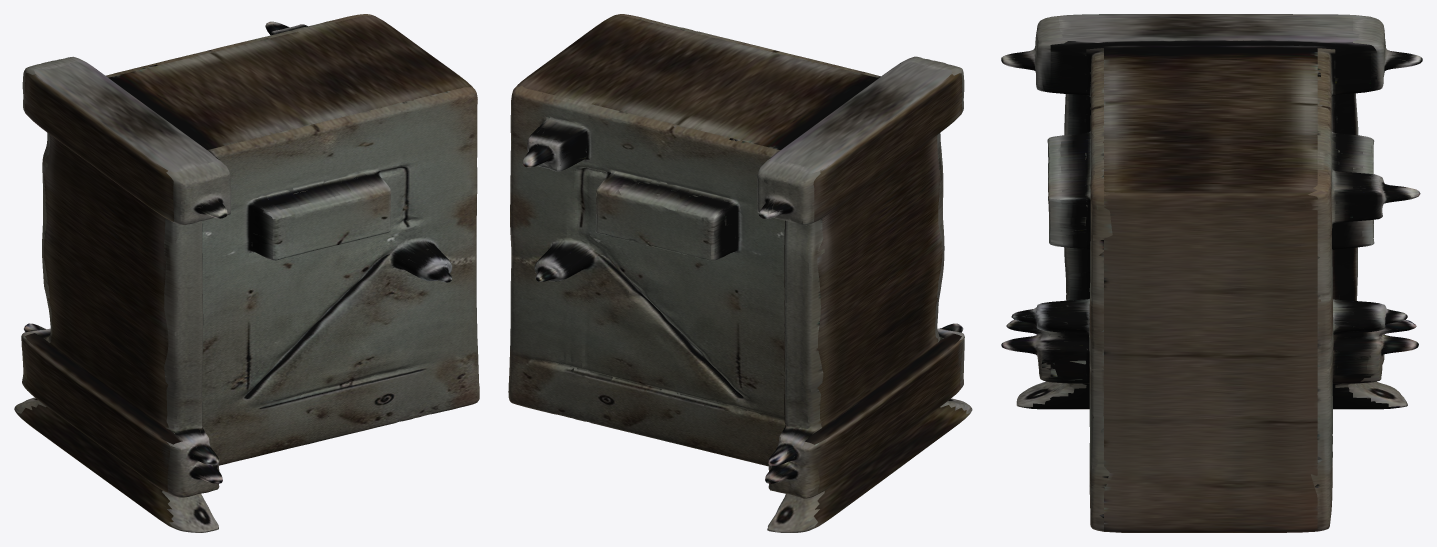
File: street-fence-gate.glb
The picture shows the model from 3 angles, left to right: view 1: azimuth 30°, elevation 25°; view 2: azimuth 150°, elevation 25°; view 3: azimuth 270°, elevation 25°; orthographic projection. The views are drawn at different scales.
Visible parts, largest first — view 1: tmpuordstw4.ply; view 2: tmpuordstw4.ply; view 3: tmpuordstw4.ply.
Boxes of the visible parts, x1=… form: tmpuordstw4.ply: x1=14, y1=14, x2=479, y2=532; tmpuordstw4.ply: x1=508, y1=14, x2=972, y2=532; tmpuordstw4.ply: x1=1001, y1=14, x2=1422, y2=532.
Size of the model in its own units: 1 by 1 by 1.
Materials: 1 (1 with a texture image).
